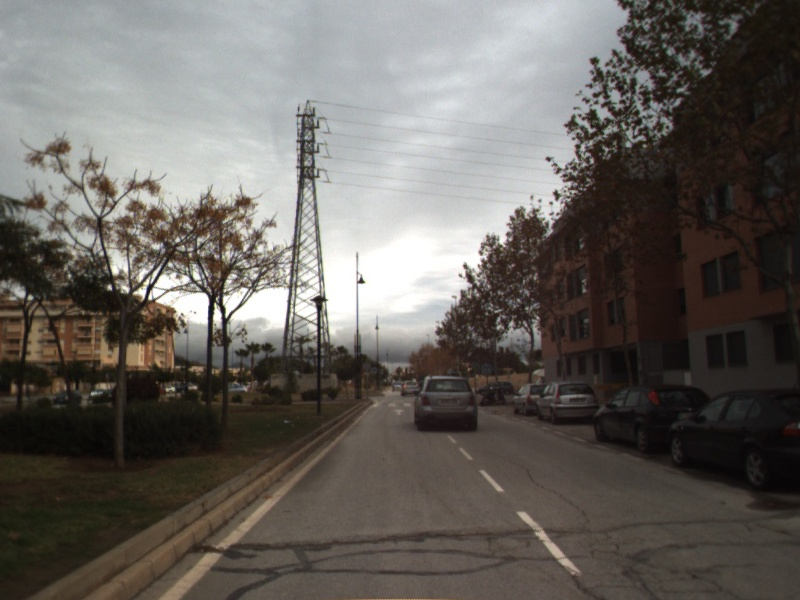STRAIGHT: (392, 408, 407, 417)
